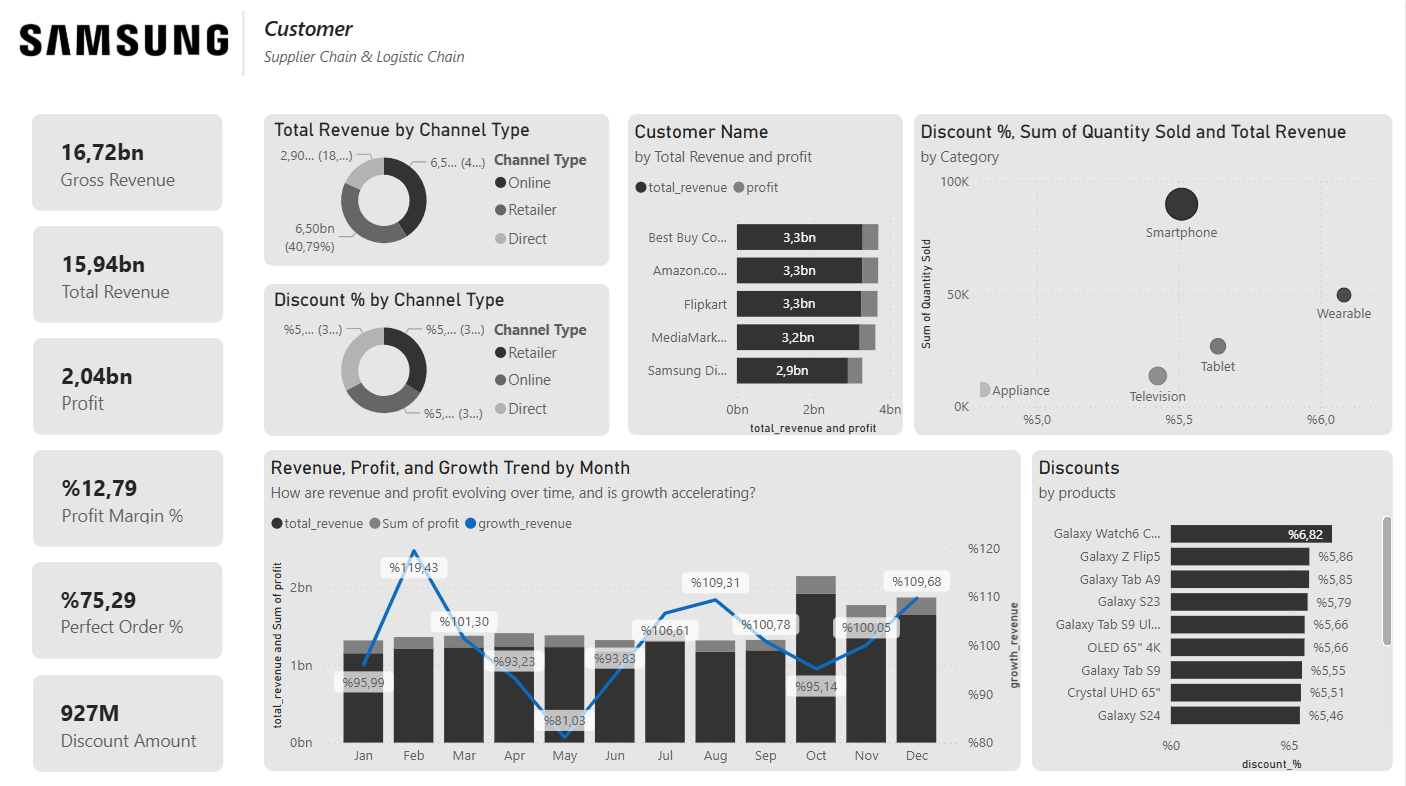

The page's visual inventory and layout, read from the dashboard file:
{"tool":"powerbi","page":{"name":"Customer","canvas":[1280,720],"ordinal":5},"visuals":[{"type":"shape","title":"Customer","box":[243.2,12.6,201.3,46.7],"z":0},{"type":"shape","box":[204.3,9.7,38.9,59.3],"z":1000},{"type":"image","box":[5.8,9.7,211.1,52.5],"z":2000},{"type":"cardVisual","fields":{"Data":["measures_table.total_revenue"]},"box":[32.8,205.7,173.1,88],"z":3000},{"type":"cardVisual","fields":{"Data":["measures_table.profit"]},"box":[32.8,307.6,173.1,88],"z":4000},{"type":"cardVisual","fields":{"Data":["measures_table.profit_margin_%"]},"box":[32.8,409.4,173.1,88],"z":5000},{"type":"cardVisual","fields":{"Data":["measures_table.perfect_order_%"]},"box":[31.7,511.3,173.1,88],"z":6000},{"type":"cardVisual","fields":{"Data":["Sum(fact_sales.discount_amount)"]},"box":[32.8,613.2,173.1,88],"z":7000},{"type":"cardVisual","fields":{"Data":["Sum(fact_sales.gross_revenue)"]},"box":[31.7,103.8,173.1,88],"z":8000},{"type":"barChart","title":"Customer Name","fields":{"Category":["dim_customer.customer_name"],"Y":["measures_table.total_revenue","measures_table.profit"]},"box":[574,104,250,292],"z":9000},{"type":"donutChart","fields":{"Y":["measures_table.total_revenue"],"Category":["dim_customer.channel_type"]},"box":[243,104,314,138],"z":10000},{"type":"donutChart","fields":{"Y":["measures_table.discount_%"],"Category":["dim_customer.channel_type"]},"box":[243,258,314,138],"z":11000},{"type":"lineStackedColumnComboChart","title":"Revenue, Profit, and Growth Trend by Month","fields":{"Category":["dim_date.month_short"],"Y":["measures_table.total_revenue","Sum(fact_sales.profit)"],"Y2":["measures_table.growth_revenue"]},"box":[243,409,688,292],"z":13000},{"type":"scatterChart","fields":{"X":["measures_table.discount_%"],"Y":["Sum(fact_sales.quantity_sold)"],"Series":["dim_product.category"],"Size":["measures_table.total_revenue"]},"box":[834,104,435,292],"z":14000},{"type":"clusteredBarChart","title":"Discounts","fields":{"Category":["dim_product.product_name"],"Y":["measures_table.discount_%"]},"box":[941,409,328,292],"z":15000}]}

Visuals, with their boxes in screenshot pixels (x1, y1, x2, y2), scaled from the page's 1280x720 canvas onto the 1406x786 screenshot:
"Customer" shape: (267,14,488,65)
shape: (224,11,267,75)
image: (6,11,238,68)
cardVisual - measures_table.total_revenue: (36,225,226,321)
cardVisual - measures_table.profit: (36,336,226,432)
cardVisual - measures_table.profit_margin_%: (36,447,226,543)
cardVisual - measures_table.perfect_order_%: (35,558,225,654)
cardVisual - Sum(fact_sales.discount_amount): (36,669,226,765)
cardVisual - Sum(fact_sales.gross_revenue): (35,113,225,209)
"Customer Name" barChart: (631,114,905,432)
donutChart - measures_table.total_revenue x dim_customer.channel_type: (267,114,612,264)
donutChart - measures_table.discount_% x dim_customer.channel_type: (267,282,612,432)
"Revenue, Profit, and Growth Trend by Month" lineStackedColumnComboChart: (267,446,1023,765)
scatterChart - measures_table.discount_% x Sum(fact_sales.quantity_sold): (916,114,1394,432)
"Discounts" clusteredBarChart: (1034,446,1394,765)
